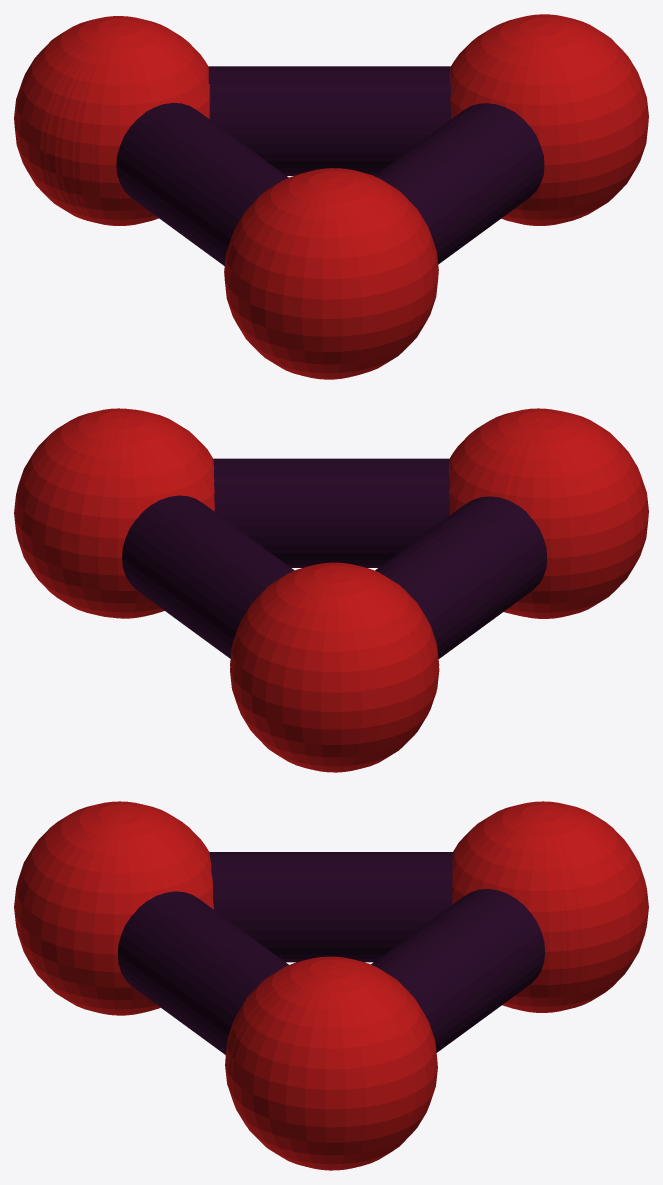
File: 3Dvertex3.fbx
3 views of the same model, one above another, from view 1: azimuth 30°, elevation 25°; view 2: azimuth 150°, elevation 25°; view 3: azimuth 270°, elevation 25° (orthographic).
Visible parts, largest first — view 1: Cylinder.001; view 2: Cylinder.001; view 3: Cylinder.001.
Part boxes in pixels (x1,y1,x2,y2): Cylinder.001: [14, 14, 648, 379]; Cylinder.001: [14, 408, 648, 772]; Cylinder.001: [14, 801, 648, 1170].
Size of the model in its own units: 552 by 200 by 600.
